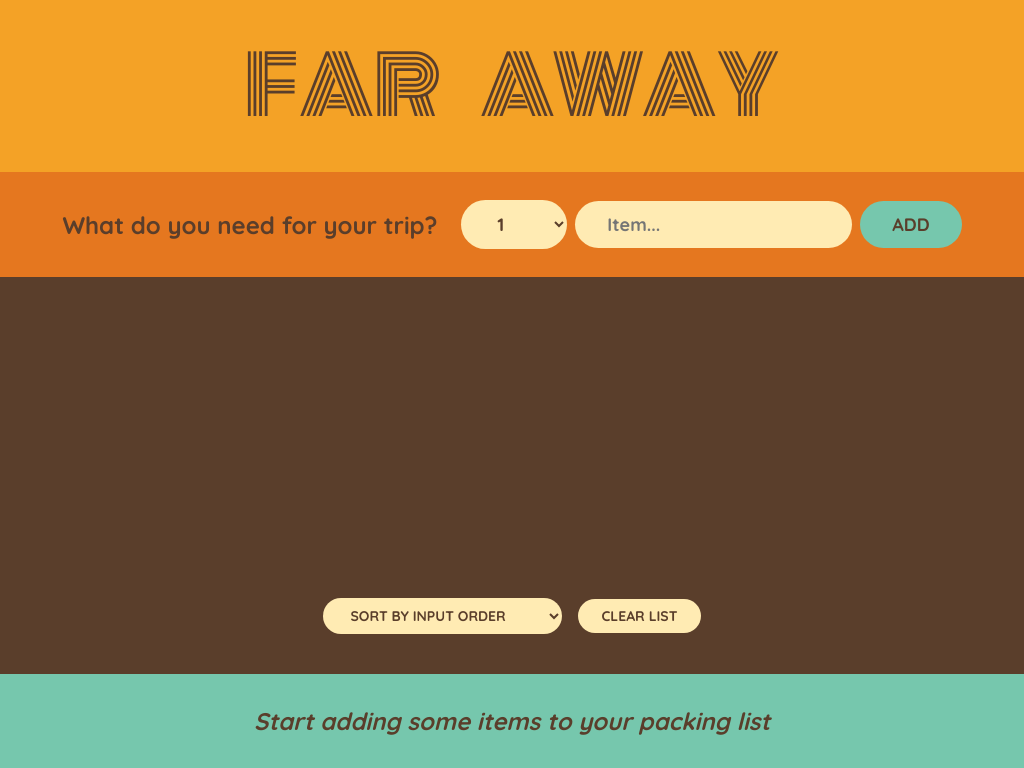
Test: App integration tests › deletes an item from the list
In the field with placeholder "Item...": [714, 224] box [575,201,852,248], type "Map"
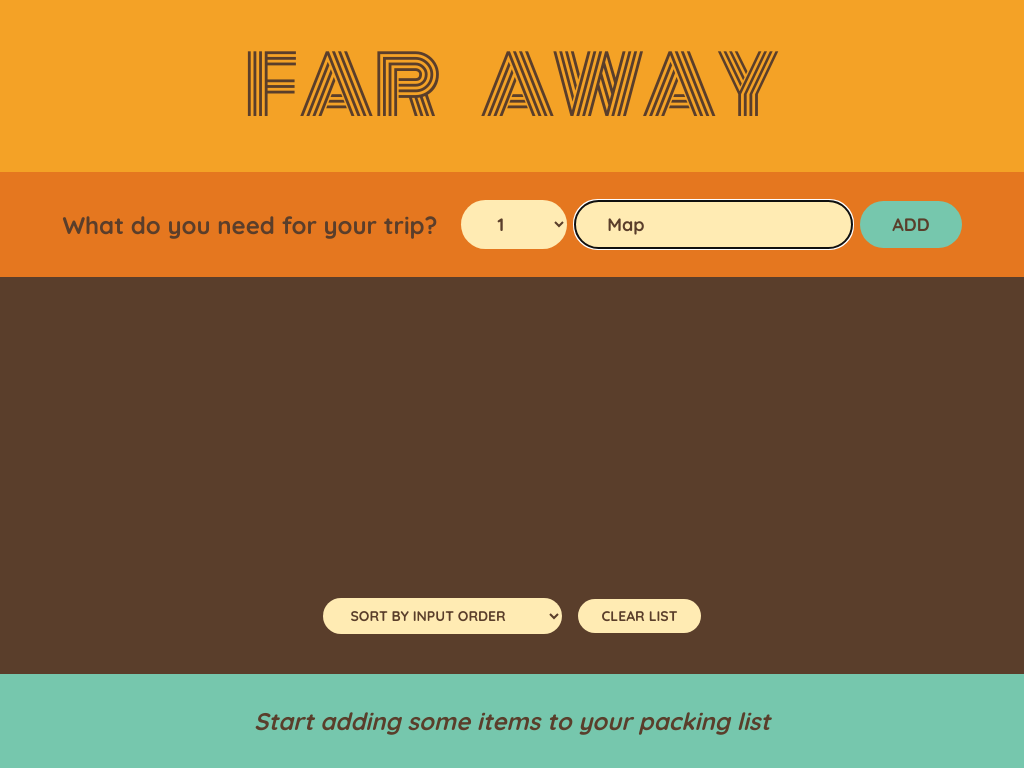
Click the button "Add": [911, 224] box [860,201,962,248]
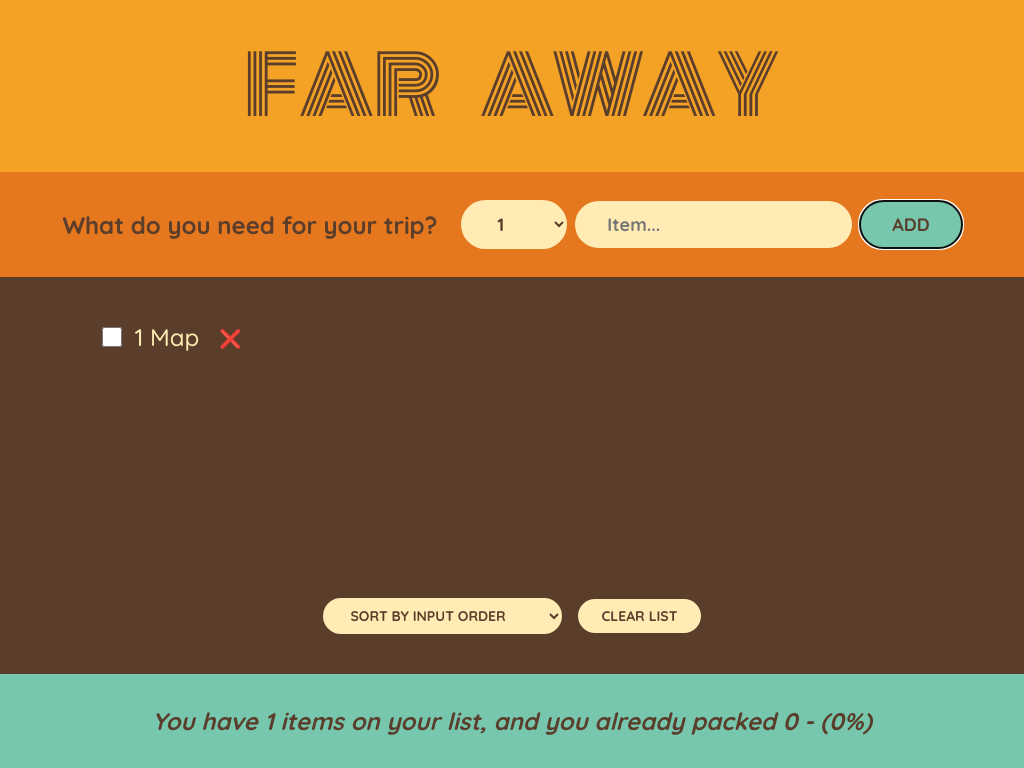
Click the button "❌": [231, 338] box [211,319,250,358]
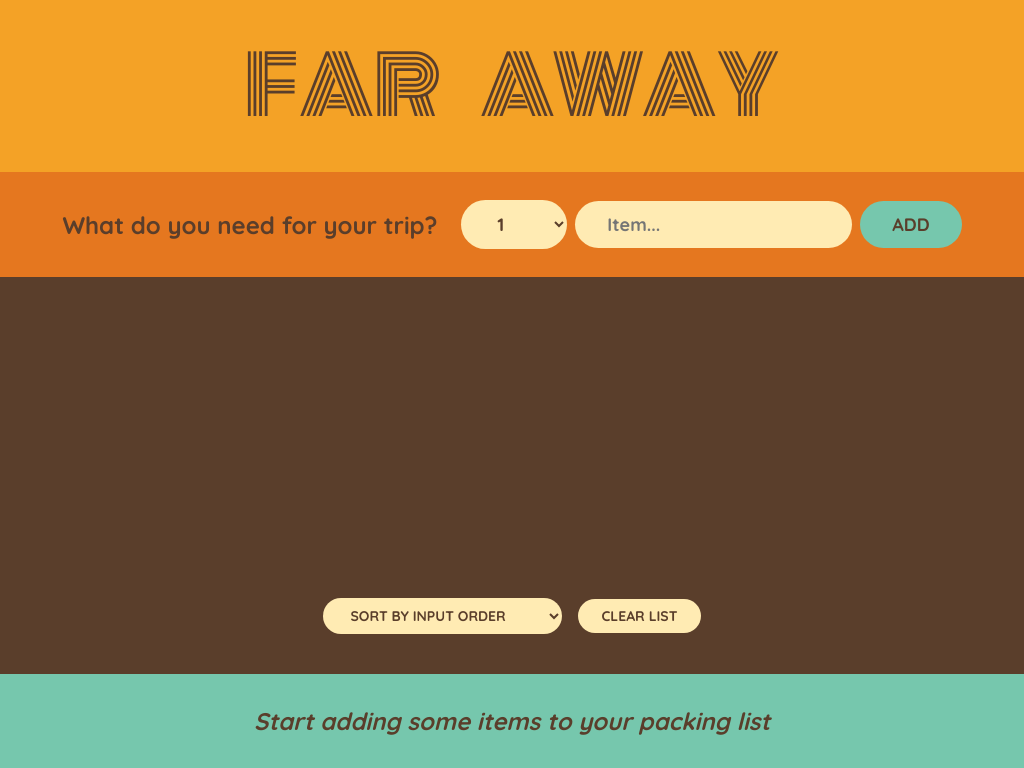
Now the text "Map" is gone
